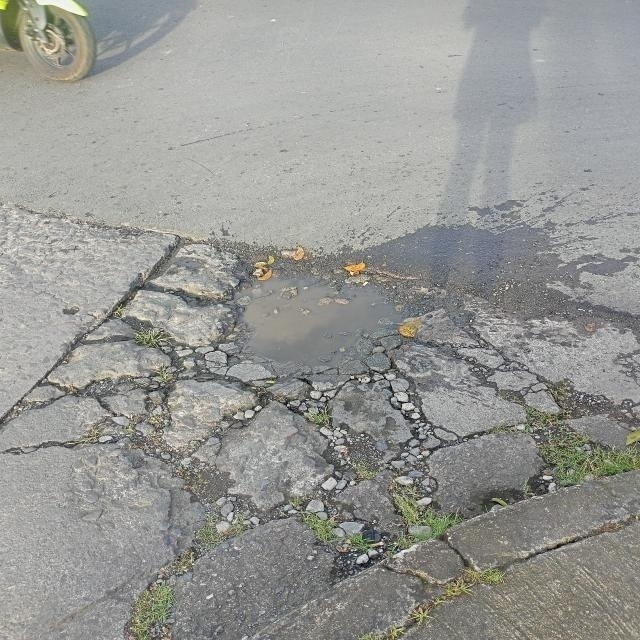pothole: (17, 189, 620, 573)
